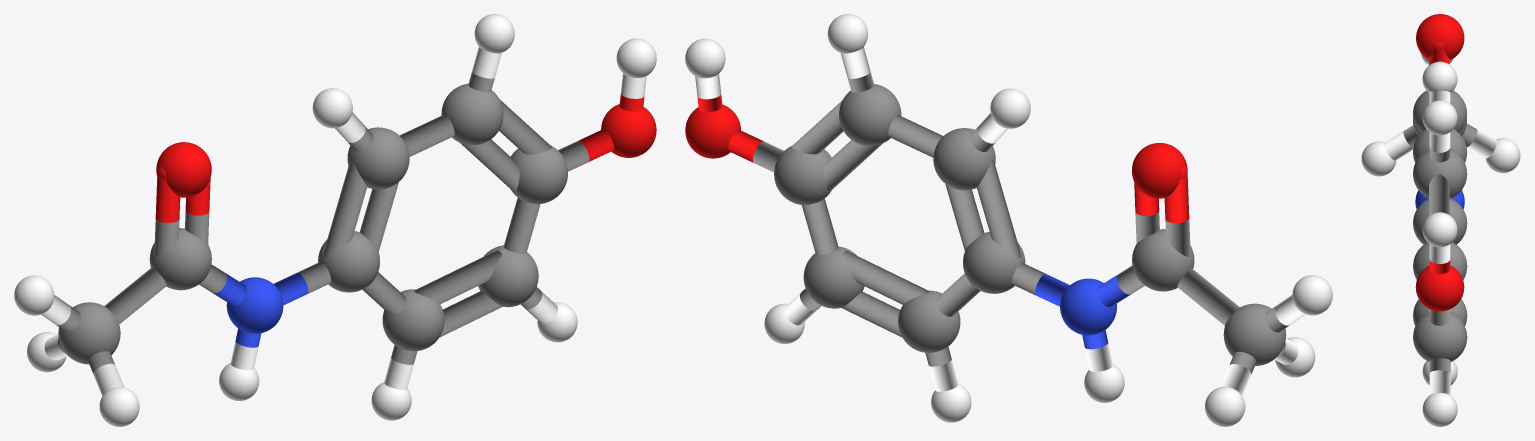
File: tylenol.obj
3 views of the same model, side by side, from view 1: azimuth 30°, elevation 25°; view 2: azimuth 150°, elevation 25°; view 3: azimuth 270°, elevation 25° (orthographic). The views are drawn at different scales.
Visible parts, largest first — view 1: C7_Atom, C6_Atom, C5_Atom, C11_Atom, C10_Atom, C9_Atom, C4_Atom, C8_Atom, O2_Atom, N3_Atom, O1_Atom, Cylinder24 (+28 smaller); view 2: C7_Atom, C6_Atom, C5_Atom, C11_Atom, C10_Atom, C9_Atom, C4_Atom, C8_Atom, O2_Atom, N3_Atom, O1_Atom, Cylinder24 (+28 smaller); view 3: C8_Atom, O1_Atom, C7_Atom, O2_Atom, H15_Atom, H20_Atom, H16_Atom, C4_Atom, H12_Atom, H19_Atom, H17_Atom, C10_Atom (+19 smaller).
Boxes of the visible parts, x1,y1,x2,y2 form: C7_Atom: (441, 83, 503, 145); C6_Atom: (382, 289, 444, 351); C5_Atom: (347, 127, 409, 189); C11_Atom: (58, 302, 120, 364); C10_Atom: (149, 228, 211, 290); C9_Atom: (510, 145, 567, 204); C4_Atom: (318, 231, 379, 292); C8_Atom: (478, 245, 538, 307); O2_Atom: (156, 142, 211, 197); N3_Atom: (226, 277, 283, 333); O1_Atom: (601, 104, 656, 157); Cylinder24: (323, 161, 367, 258); C7_Atom: (839, 84, 901, 145); C6_Atom: (898, 290, 960, 352); C5_Atom: (933, 128, 995, 190); C11_Atom: (1223, 303, 1286, 365); C10_Atom: (1132, 229, 1194, 291); C9_Atom: (774, 146, 831, 205); C4_Atom: (963, 232, 1025, 293); C8_Atom: (803, 246, 864, 308); O2_Atom: (1132, 143, 1187, 198); N3_Atom: (1060, 278, 1116, 335); O1_Atom: (685, 104, 740, 158); Cylinder24: (977, 160, 1021, 259); C8_Atom: (1413, 312, 1467, 361); O1_Atom: (1415, 265, 1464, 311); C7_Atom: (1413, 149, 1467, 198); O2_Atom: (1416, 14, 1464, 60); H15_Atom: (1422, 100, 1457, 135); H20_Atom: (1422, 212, 1457, 247); H16_Atom: (1422, 393, 1457, 426); C4_Atom: (1413, 198, 1467, 244); H12_Atom: (1422, 61, 1457, 92); H19_Atom: (1361, 141, 1396, 176); H17_Atom: (1485, 138, 1520, 172); C10_Atom: (1413, 90, 1466, 132).
Bounding box in the file's own units: 9.26 × 5.24 × 2.29.
